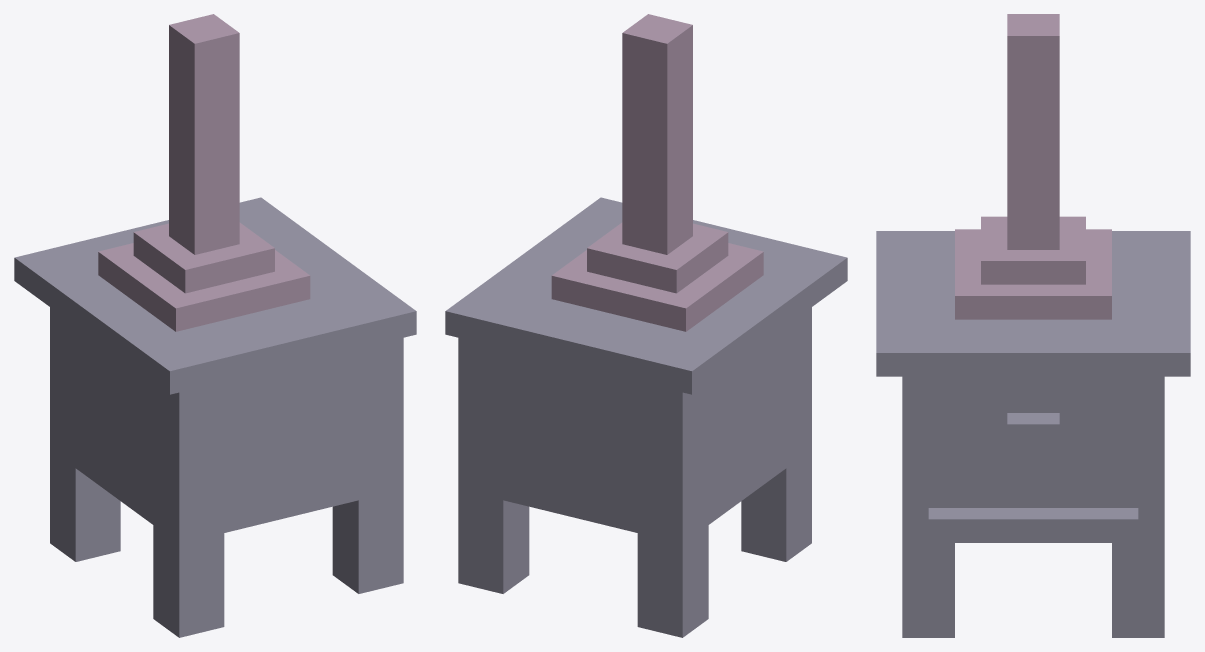
File: stand.gltf
3 renders of one model, left to right at view 1: azimuth 30°, elevation 25°; view 2: azimuth 150°, elevation 25°; view 3: azimuth 270°, elevation 25°, orthographic.
Parts seen in each view (by area): view 1: unnamed_mesh1; view 2: unnamed_mesh1; view 3: unnamed_mesh1.
Part boxes in pixels (x1=…): unnamed_mesh1: x1=14, y1=14, x2=416, y2=637; unnamed_mesh1: x1=445, y1=14, x2=847, y2=637; unnamed_mesh1: x1=876, y1=14, x2=1190, y2=637.
Size of the model in its own units: 11 by 23 by 12.
Materials: 1 (1 with a texture image).
